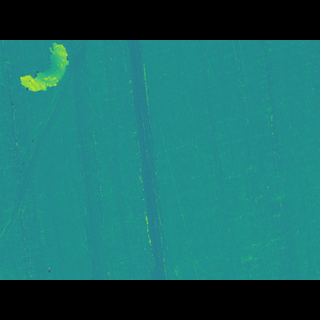Loch: (0, 69, 95, 225), (17, 70, 78, 108)
